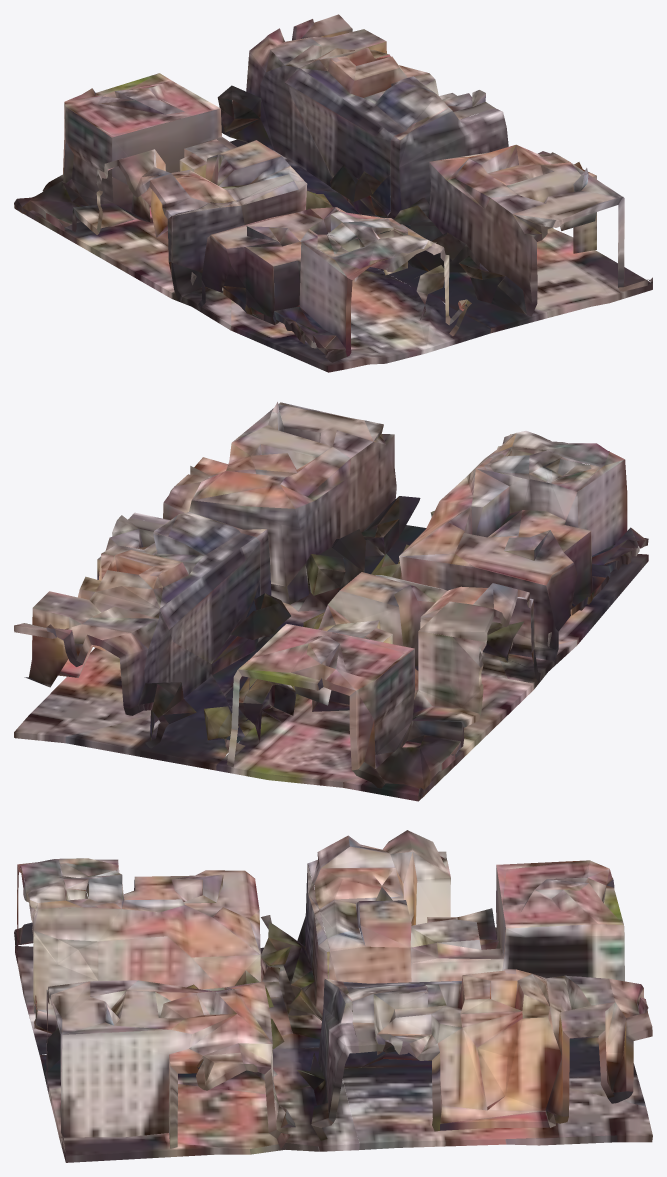
3 views of the same model, one above another, from view 1: azimuth 30°, elevation 25°; view 2: azimuth 150°, elevation 25°; view 3: azimuth 270°, elevation 25° (orthographic). The views are drawn at different scales.
Visible parts, largest first — view 1: Mesh_0; view 2: Mesh_0; view 3: Mesh_0.
Boxes of the visible parts, x1,y1,x2,y2 form: Mesh_0: (14, 14, 652, 372); Mesh_0: (14, 402, 648, 801); Mesh_0: (14, 830, 652, 1162).
Size of the model in its own units: 133 by 40.84 by 165.
Materials: 1 (1 with a texture image).
